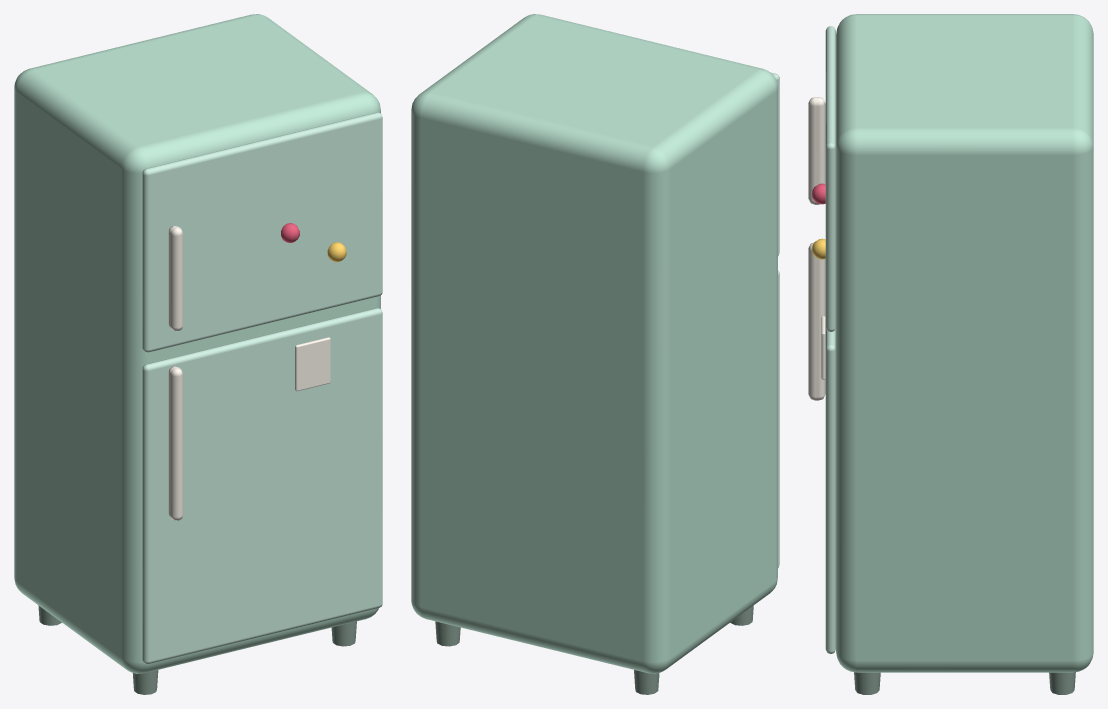
The model's file is fridge.glb.
The picture shows the model from 3 angles, left to right: view 1: azimuth 30°, elevation 25°; view 2: azimuth 150°, elevation 25°; view 3: azimuth 270°, elevation 25°; orthographic projection. The views are drawn at different scales.
Size of the model in its own units: 0.88 by 1.8 by 0.82.
